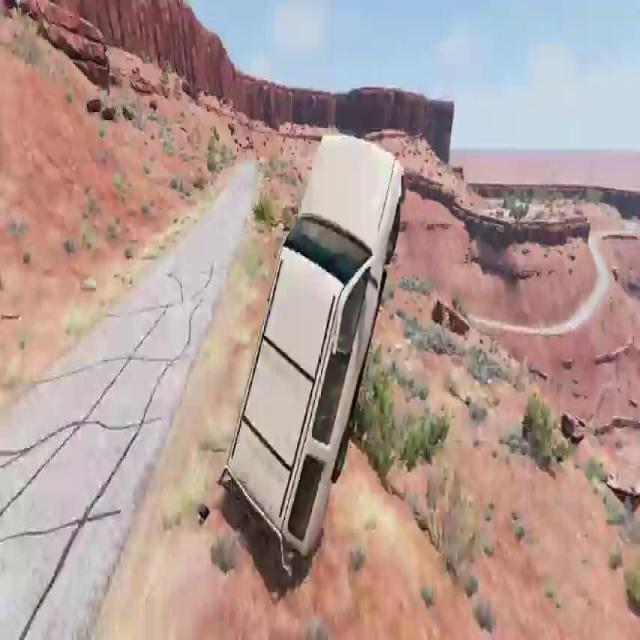severe: (219, 114, 405, 577)
